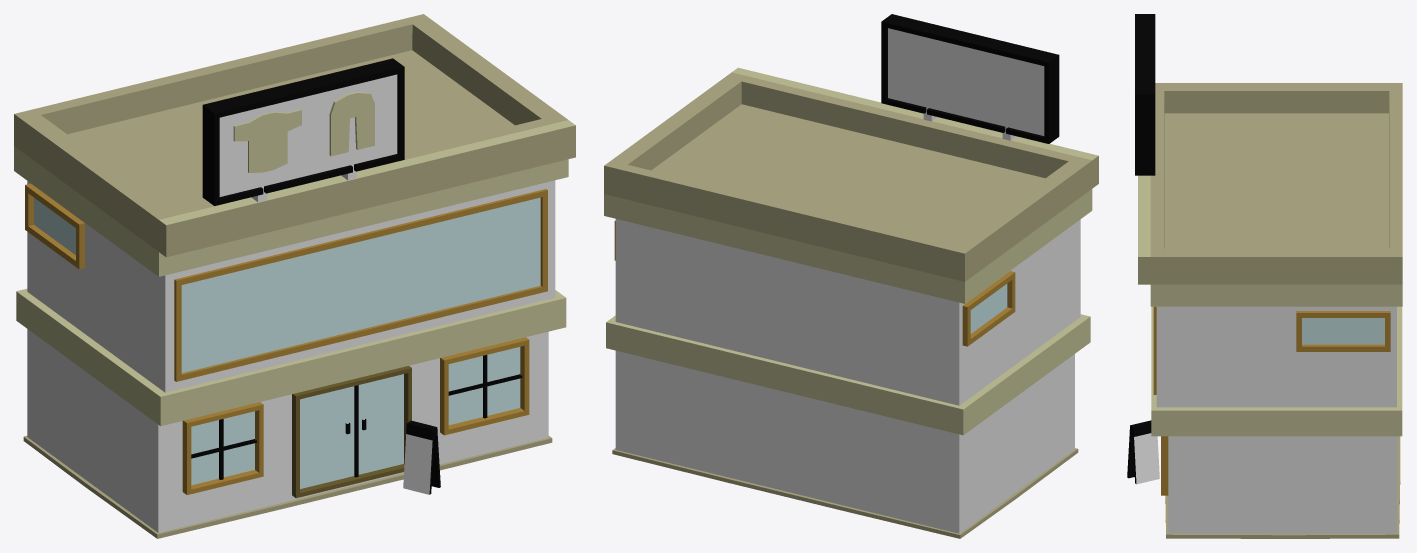
Rendered from Cloth_Shop 1.fbx.
The picture shows the model from 3 angles, left to right: view 1: azimuth 30°, elevation 25°; view 2: azimuth 150°, elevation 25°; view 3: azimuth 270°, elevation 25°; orthographic projection. The views are drawn at different scales.
Visible parts, largest first — view 1: Building, pCube449, pCube440, pCube447; view 2: Building, pCube449; view 3: Building, pCube449, pCube440.
Boxes of the visible parts, <box> form: Building: <box>14,14,575,538</box>; pCube449: <box>202,58,404,205</box>; pCube440: <box>403,420,440,494</box>; pCube447: <box>448,355,522,418</box>; Building: <box>604,67,1098,538</box>; pCube449: <box>881,14,1059,143</box>; Building: <box>1138,83,1402,538</box>; pCube449: <box>1135,14,1155,175</box>; pCube440: <box>1127,420,1159,484</box>.
Bounding box in the file's own units: 243 × 243 × 163.
